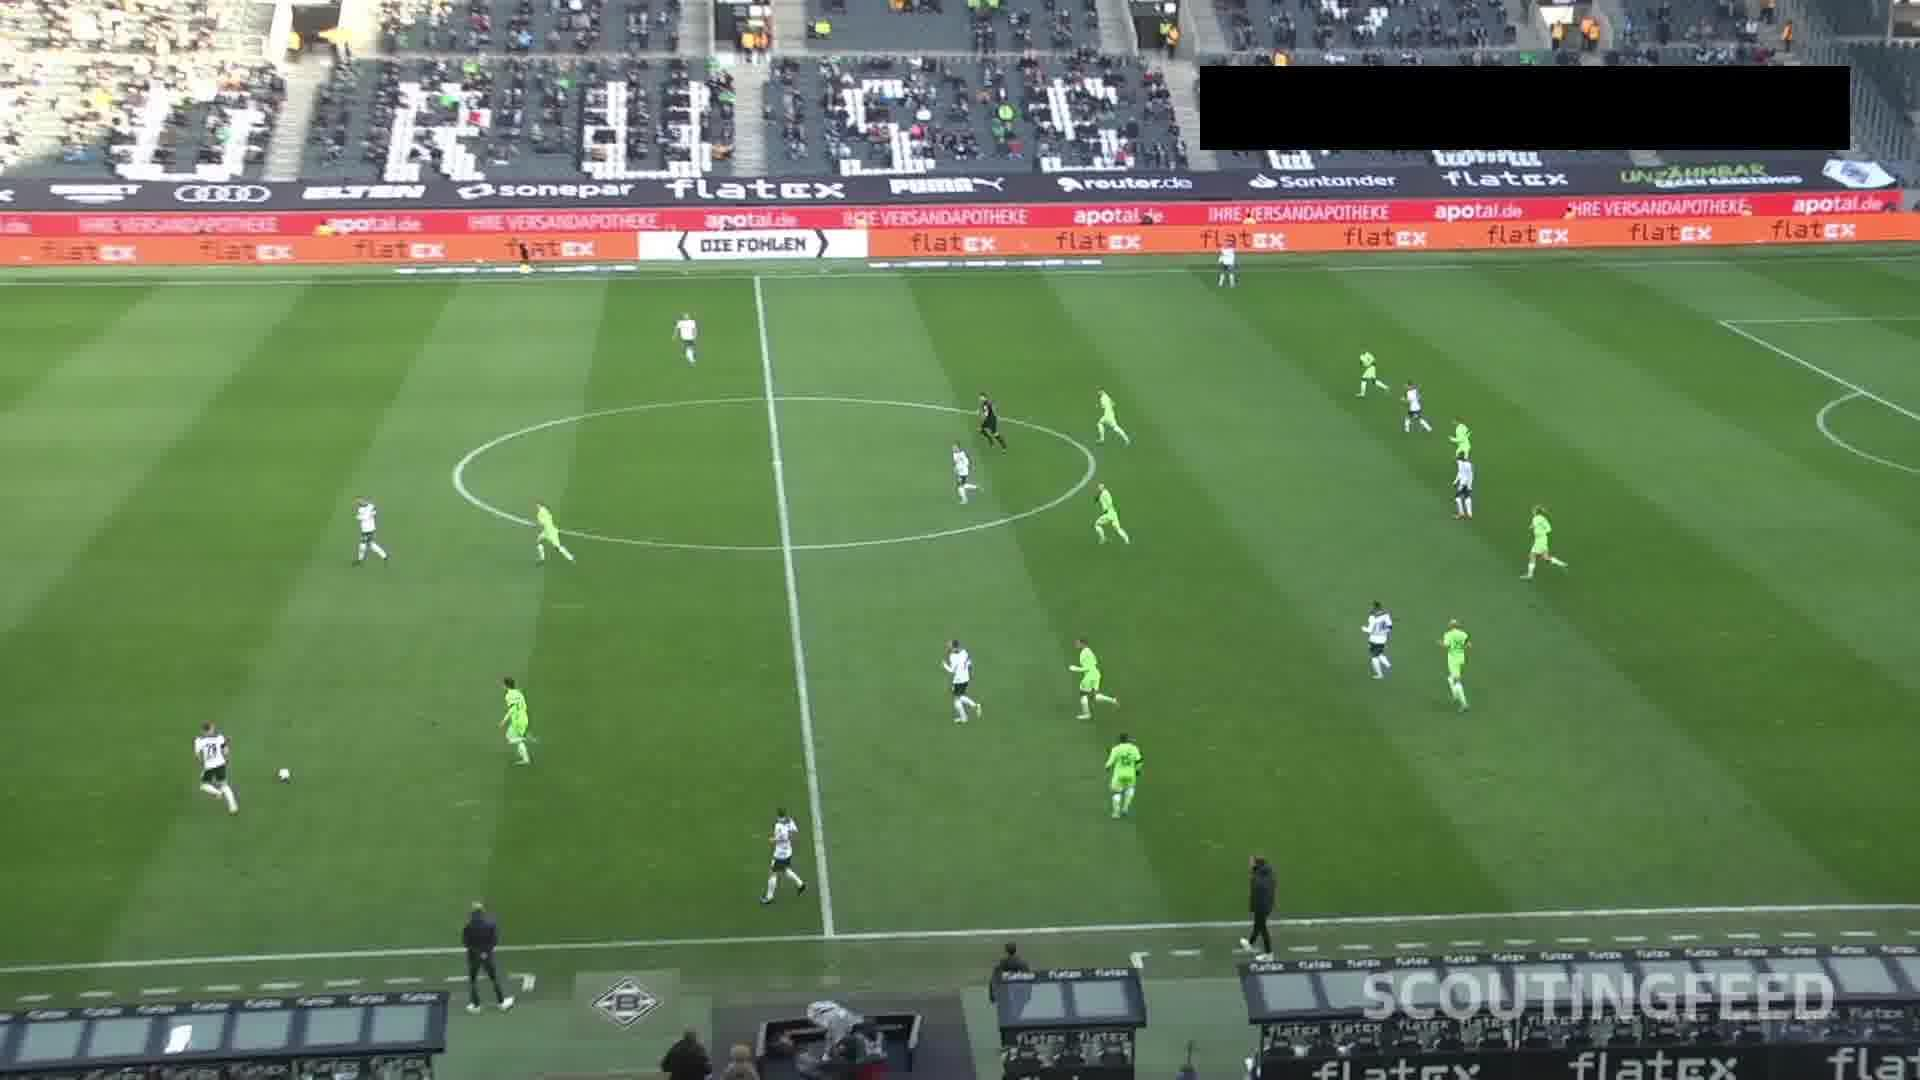football: (276, 766, 293, 783)
